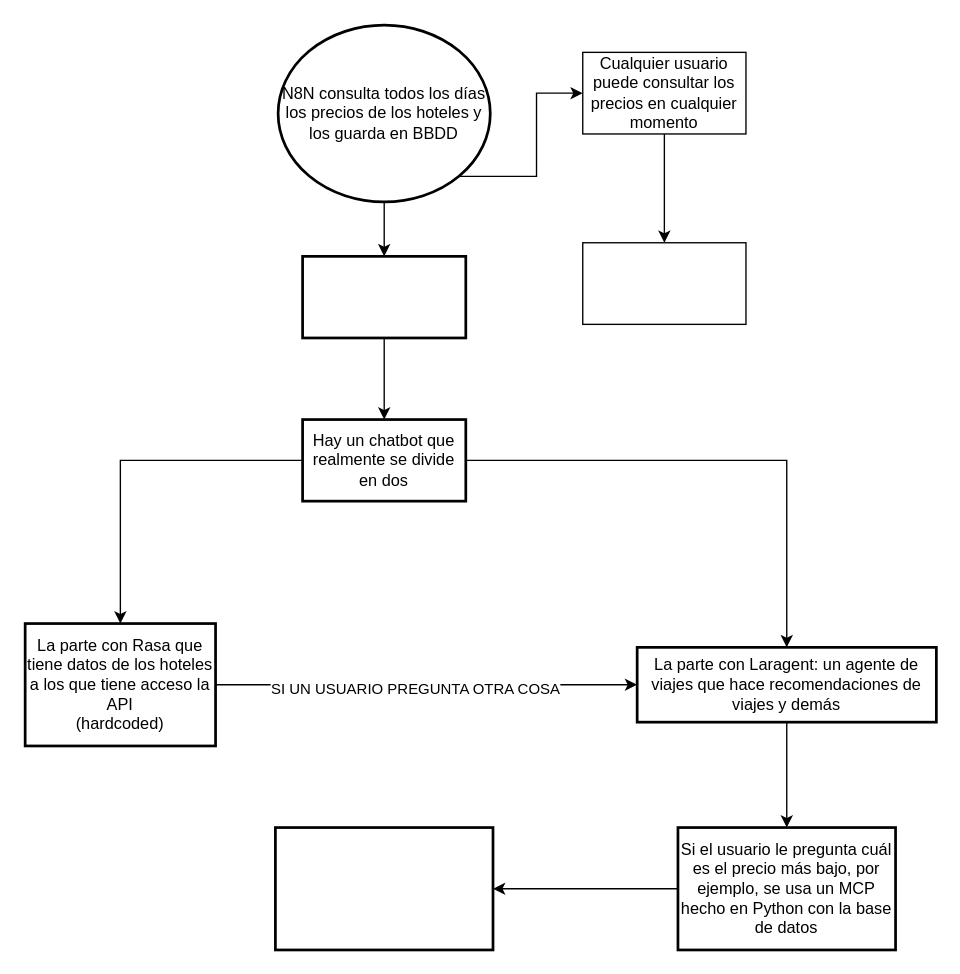
Some shapes in this 960 by 974 pixel diagram are drawn without their labels. Here are the shapes that lost their labels. From the top down, the box of each, then its label:
(301, 254, 466, 339): N8N notifica a los usuarios que pidan precios bajos (como AllKeyShop)
(581, 241, 746, 324): Para ser usuario, previamente tendrá que tener el mail verificado con N8N
(273, 826, 494, 951): Todo el flujo powered by Laravel
